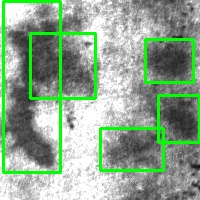patches: (4, 1, 60, 172), (30, 33, 95, 98), (100, 128, 163, 170), (145, 39, 193, 82), (158, 95, 199, 142)
